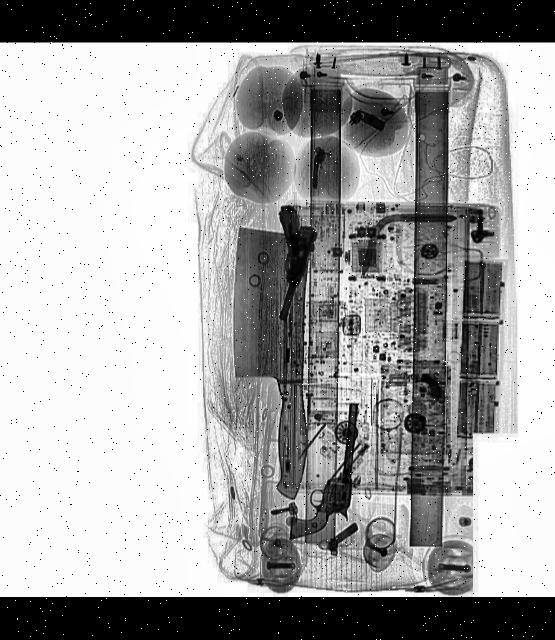Gun: (288, 400, 359, 543), (248, 204, 325, 322)
Knife: (230, 226, 312, 498)
